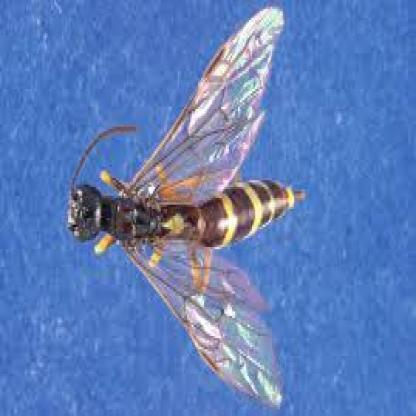sawfly: (66, 6, 306, 416)
